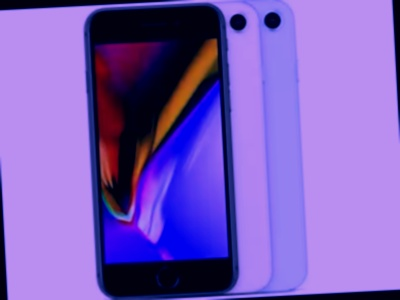iphone: (167, 4, 310, 297)
